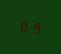nine: (30, 20, 40, 34)
zero: (19, 19, 29, 33)
